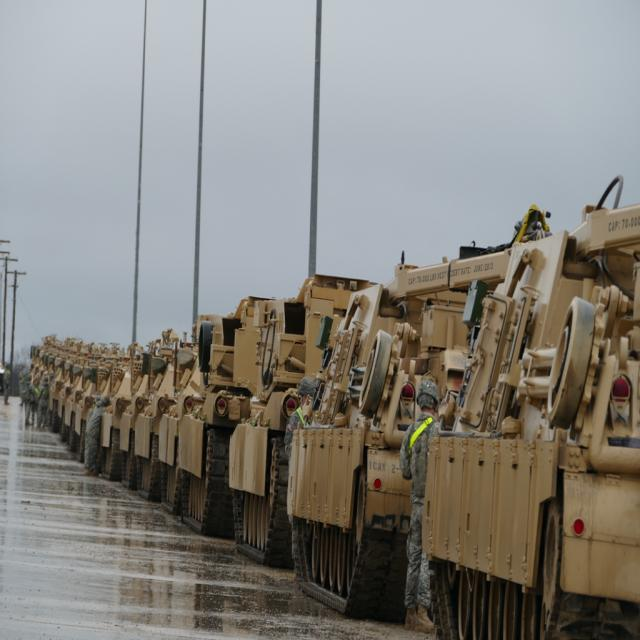tank: (27, 172, 639, 639)
